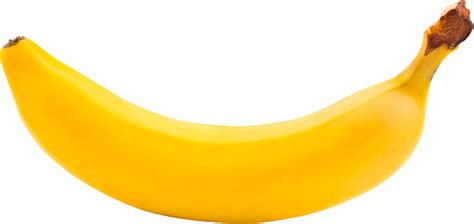banana: (1, 31, 428, 224)
